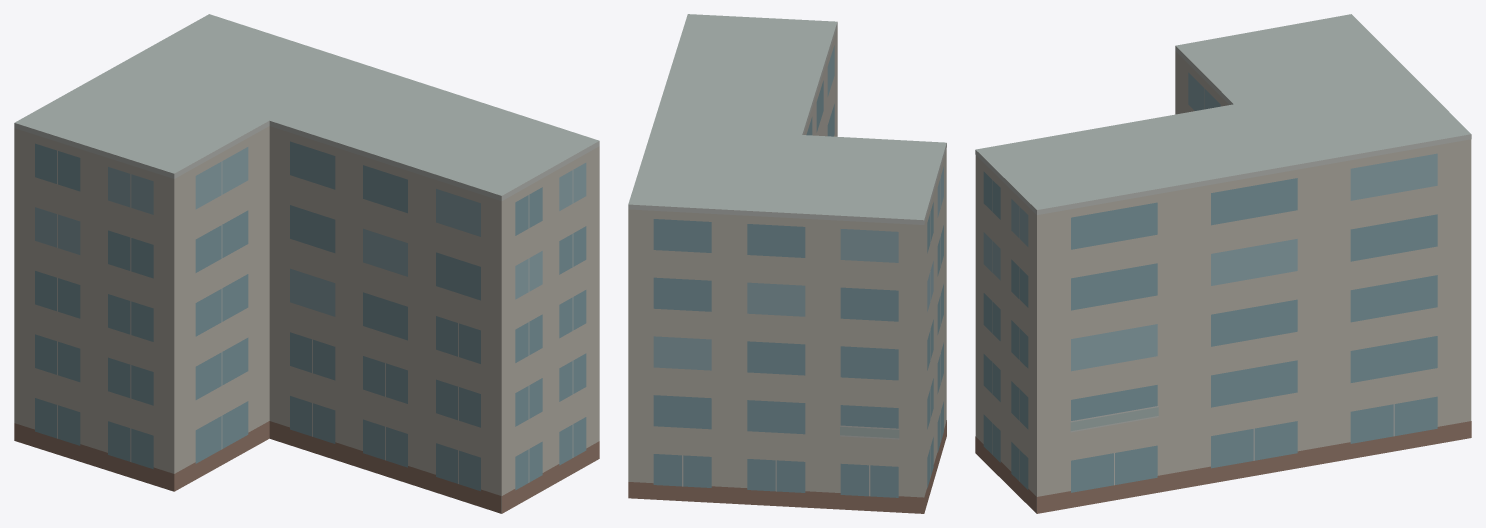
File: survey-upis-32927877.glb
3 views of the same model, side by side, from view 1: azimuth 30°, elevation 25°; view 2: azimuth 150°, elevation 25°; view 3: azimuth 270°, elevation 25° (orthographic). The views are drawn at different scales.
Parts seen in each view (by area): view 1: survey-upis-32927877.tmp; view 2: survey-upis-32927877.tmp; view 3: survey-upis-32927877.tmp.
Boxes of the visible parts, bbox=[...] form: survey-upis-32927877.tmp: bbox=[14, 14, 599, 513]; survey-upis-32927877.tmp: bbox=[628, 14, 946, 513]; survey-upis-32927877.tmp: bbox=[975, 14, 1471, 513].
Bounding box in the file's own units: 20.22 × 14.6 × 21.61.
